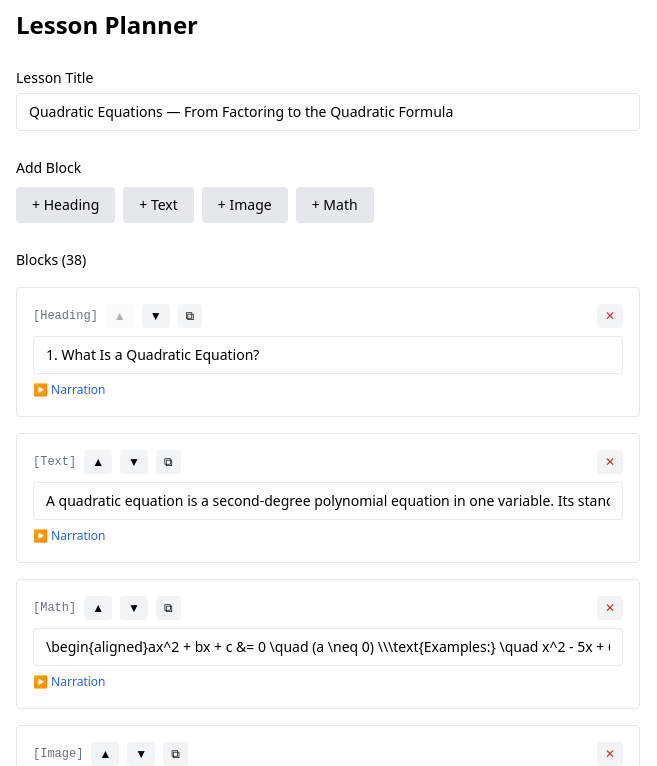
Scenario: LessonPlanner › tracks block count correctly after adding to seed
Expected: the text "Blocks (38)" is shown, [16, 250, 86, 269]
Click the button "+ Text" at (159, 205), box [123, 187, 194, 223]
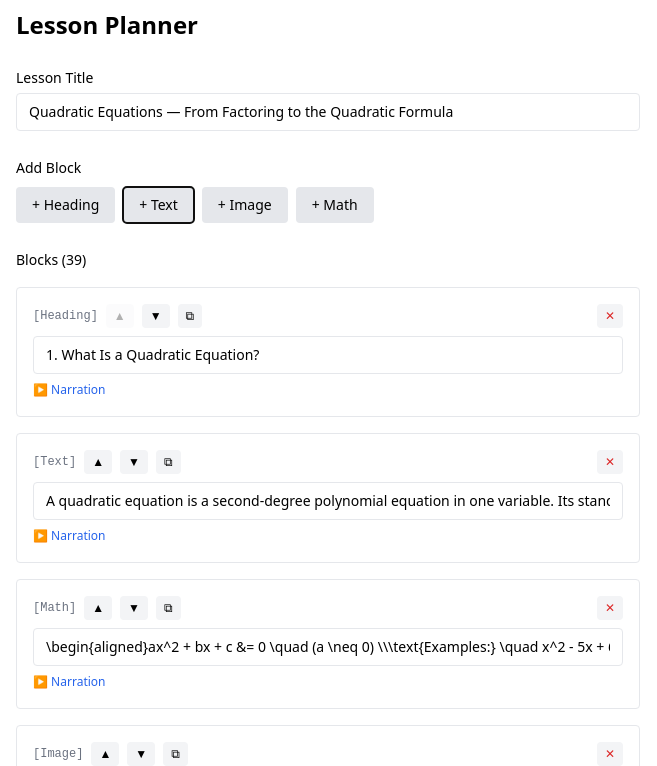
Click the button "+ Math" at (335, 205), box [296, 187, 374, 223]
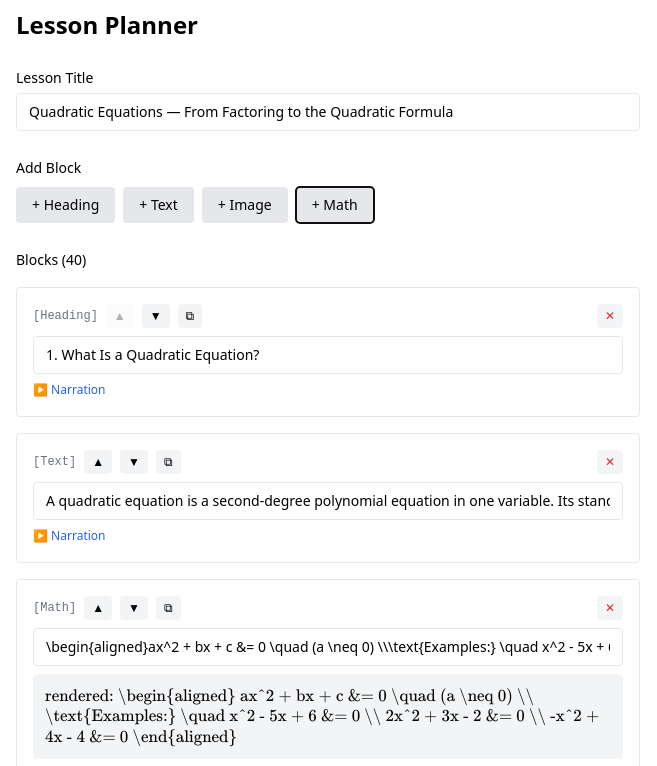
Result: the text "Blocks (40)" is shown at [16, 250, 86, 269]
